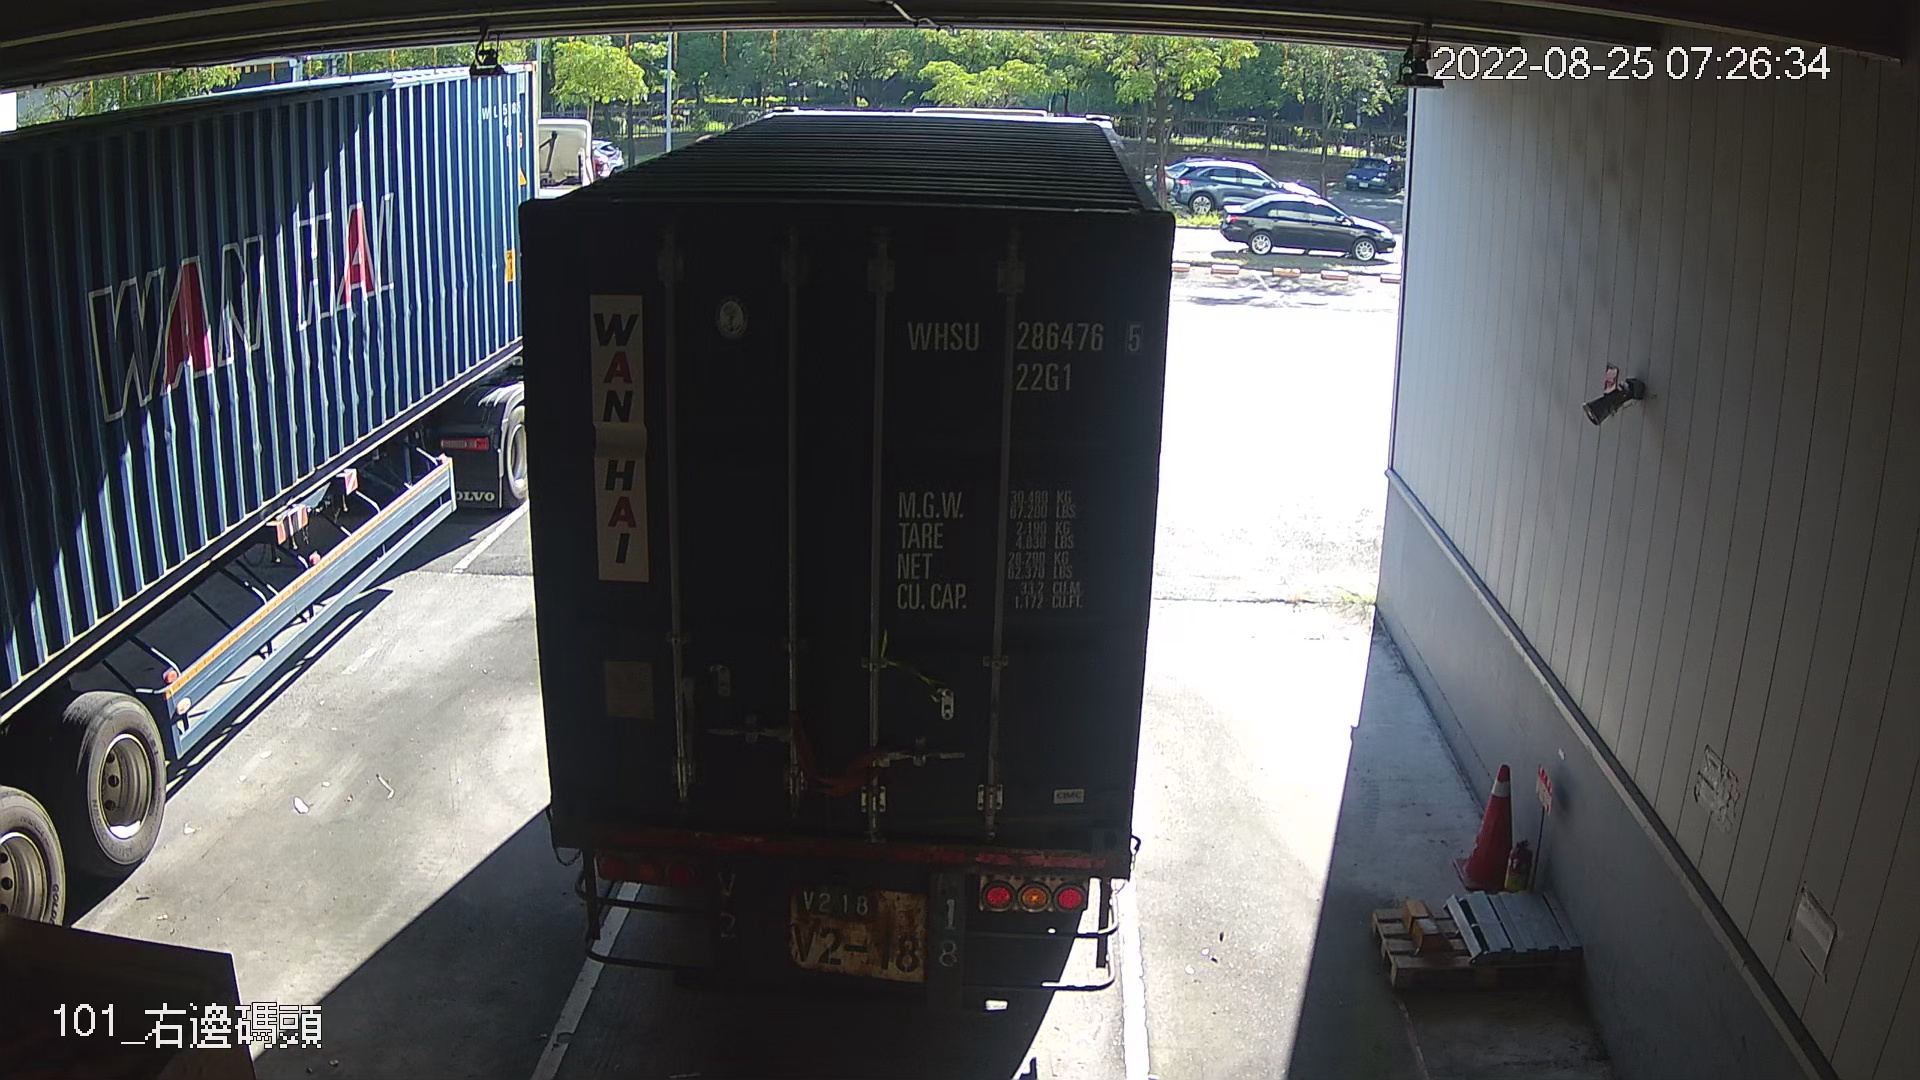container: (897, 301, 1151, 401)
